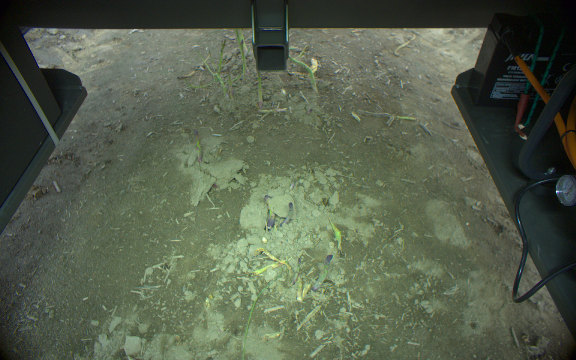aspa: (287, 53, 319, 92), (312, 251, 334, 291), (327, 218, 344, 249), (393, 34, 416, 56), (262, 195, 275, 231), (191, 127, 202, 163), (233, 27, 246, 56), (215, 40, 226, 72), (279, 202, 292, 225), (224, 66, 233, 99), (256, 70, 264, 107), (240, 39, 247, 74), (393, 113, 416, 121)
